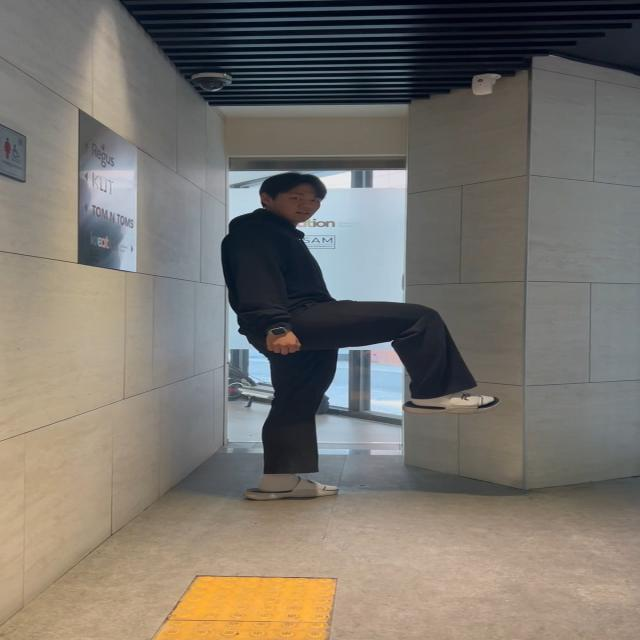knee: (298, 284, 517, 444)
